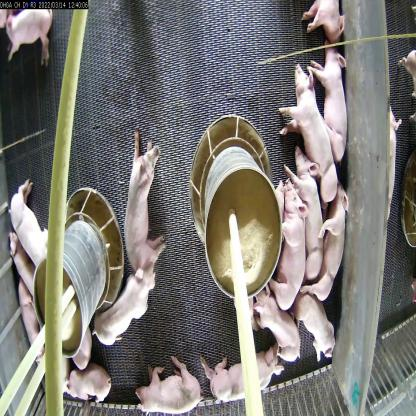Pig: (287, 57, 343, 208), (126, 141, 164, 278), (276, 183, 312, 314), (88, 272, 160, 335), (317, 27, 353, 152), (138, 356, 210, 416), (296, 146, 328, 272), (6, 286, 51, 372), (249, 292, 301, 366), (316, 200, 354, 301), (7, 184, 59, 255), (0, 5, 54, 63), (296, 292, 338, 362), (56, 361, 121, 405), (208, 350, 276, 392), (0, 233, 37, 290)
